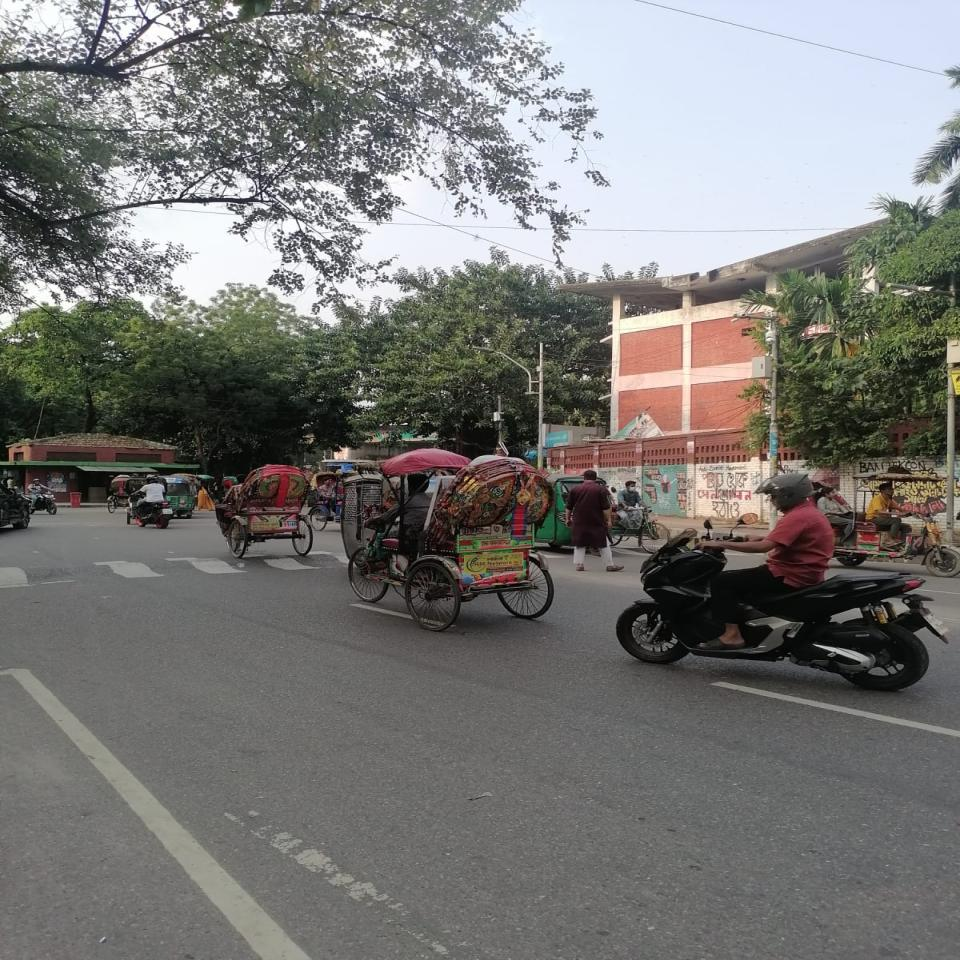person: (565, 470, 618, 575), (198, 479, 214, 512)
